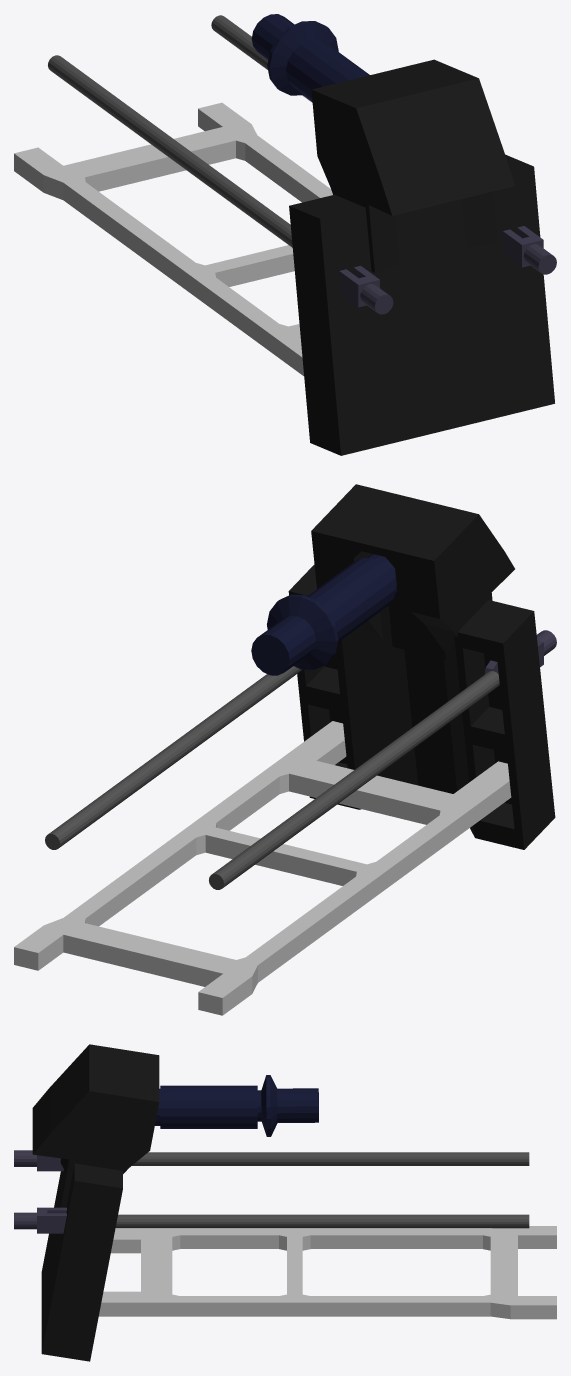
The model's file is Suspension.glb.
3 views of the same model, one above another, from view 1: azimuth 30°, elevation 25°; view 2: azimuth 150°, elevation 25°; view 3: azimuth 270°, elevation 25° (orthographic). The views are drawn at different scales.
Parts seen in each view (by area): view 1: Suspension Mount, Lower Suspension Bracket, Upper Suspension Axle, Upper Suspension Bracket, Suspension Shock Lower, Suspension Shock Upper; view 2: Suspension Mount, Lower Suspension Bracket, Upper Suspension Axle, Suspension Shock Lower, Suspension Shock Upper; view 3: Suspension Mount, Lower Suspension Bracket, Upper Suspension Axle, Suspension Shock Upper, Suspension Shock Lower, Upper Suspension Bracket.
Boxes of the visible parts, x1,y1,x2,y2 form: Suspension Mount: (289, 59, 554, 455); Lower Suspension Bracket: (14, 102, 332, 376); Upper Suspension Axle: (48, 15, 312, 247); Upper Suspension Bracket: (339, 226, 556, 314); Suspension Shock Lower: (251, 14, 338, 95); Suspension Shock Upper: (286, 40, 369, 100); Suspension Mount: (288, 484, 555, 849); Lower Suspension Bracket: (14, 721, 511, 1015); Upper Suspension Axle: (45, 666, 499, 889); Suspension Shock Lower: (251, 594, 338, 675); Suspension Shock Upper: (307, 553, 397, 642); Suspension Mount: (32, 1044, 159, 1361); Lower Suspension Bracket: (98, 1226, 556, 1319); Upper Suspension Axle: (115, 1152, 529, 1228); Suspension Shock Upper: (155, 1085, 257, 1128); Suspension Shock Lower: (257, 1075, 318, 1136); Upper Suspension Bracket: (14, 1150, 66, 1233).
Bounding box in the file's own units: 0.1346 × 0.1945 × 0.3782.
